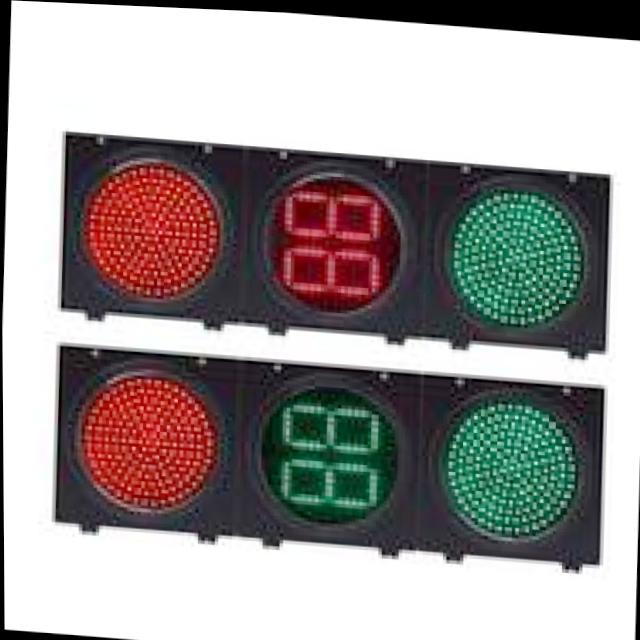green_light: (412, 155, 635, 356)
red_light: (61, 127, 255, 363)
